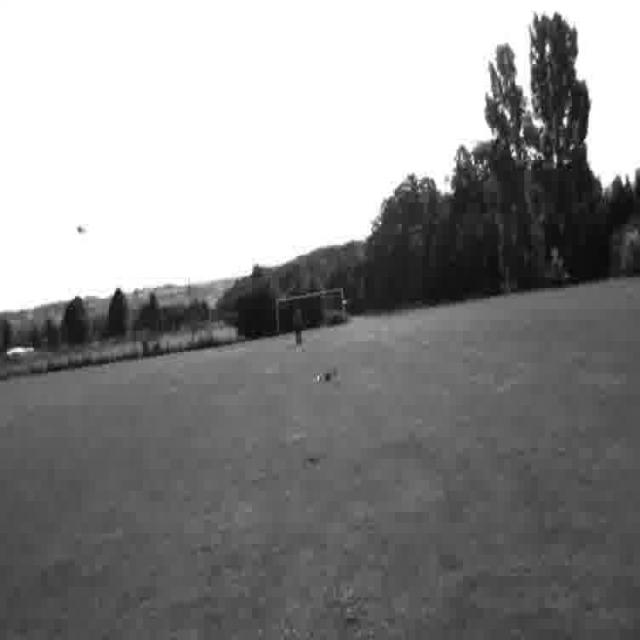drones: (312, 364, 338, 397)
